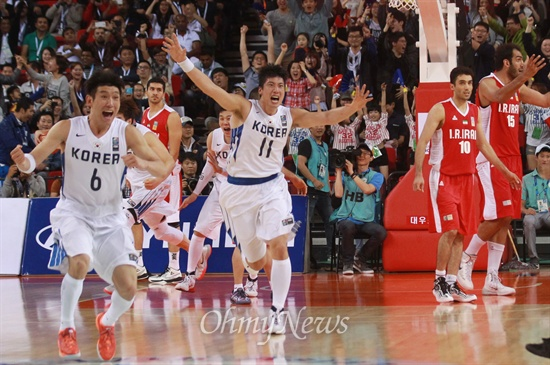run: (164, 30, 366, 340), (19, 68, 182, 362)
stand: (418, 63, 492, 308)
